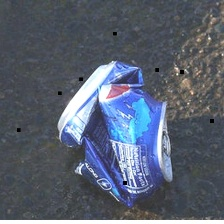can: (50, 54, 180, 212)
